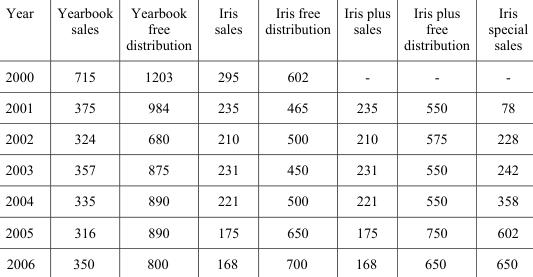table: (4, 3, 527, 271)
table column: (118, 3, 202, 271), (252, 3, 336, 271), (396, 3, 478, 271), (45, 3, 118, 271), (336, 3, 396, 271), (202, 3, 252, 271), (478, 3, 527, 271), (4, 3, 45, 271)
table column header: (4, 3, 527, 60)
table row: (4, 3, 527, 60), (4, 153, 527, 185), (4, 60, 527, 91), (4, 91, 527, 122), (4, 122, 527, 153), (4, 185, 527, 216), (4, 216, 527, 247), (4, 247, 527, 271)
